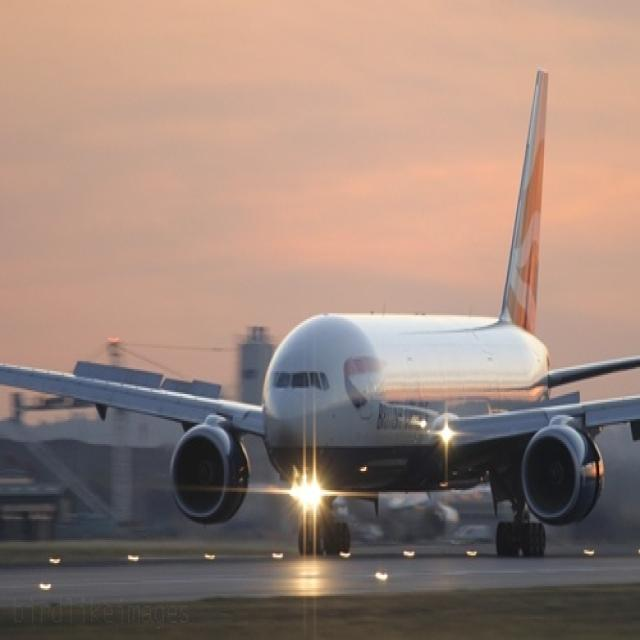aeroplane: (0, 68, 639, 558)
